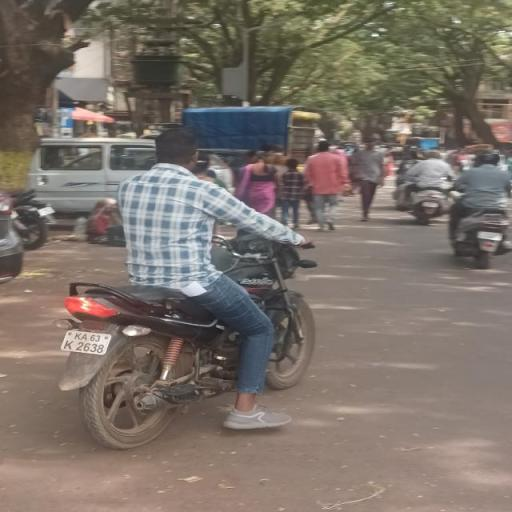bike: (52, 125, 318, 453)
numberplate: (63, 325, 117, 364)
withouthelmet: (156, 129, 199, 169)
